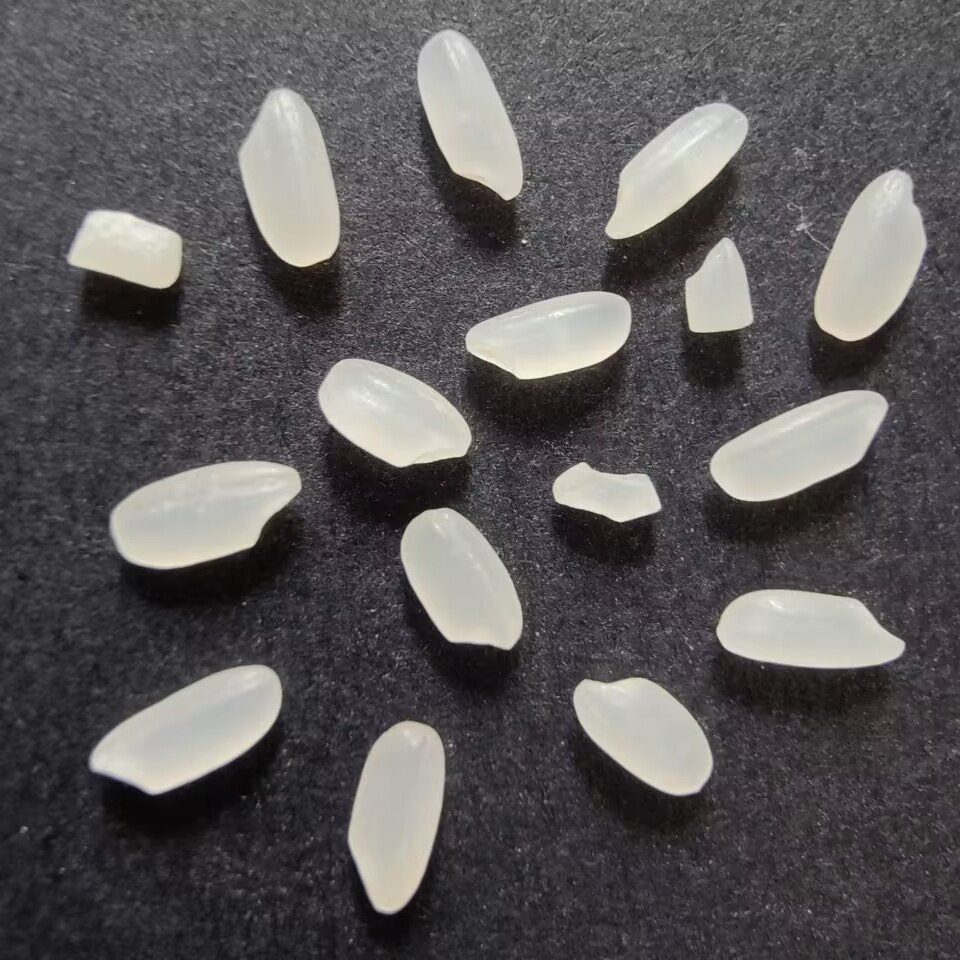broken: (65, 204, 191, 292), (673, 235, 763, 339), (548, 458, 667, 532)
rice: (83, 660, 283, 800), (109, 456, 303, 573), (601, 96, 752, 243), (708, 385, 892, 505), (813, 165, 934, 345), (342, 717, 447, 917), (408, 28, 526, 204), (234, 80, 343, 268), (393, 505, 527, 654), (314, 356, 477, 474), (566, 675, 716, 800), (707, 587, 909, 674), (458, 286, 635, 383)
